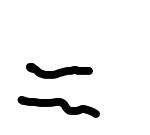eqv: (11, 59, 106, 120)
